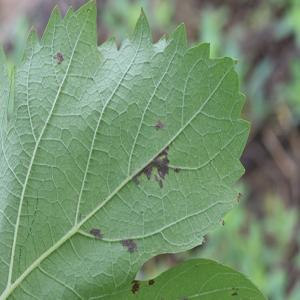Folha: (0, 0, 251, 298)
Fungo: (132, 145, 180, 188), (142, 148, 169, 180), (153, 154, 169, 179), (121, 238, 138, 252), (142, 163, 153, 180), (53, 50, 64, 65), (89, 228, 103, 238), (130, 280, 140, 294), (154, 174, 163, 189), (154, 118, 165, 130), (132, 174, 140, 185), (162, 154, 170, 164), (233, 58, 239, 68), (237, 192, 242, 202), (158, 178, 163, 188), (148, 278, 154, 285), (154, 123, 160, 130), (174, 166, 180, 172), (160, 121, 165, 128), (202, 238, 206, 244), (231, 291, 237, 295), (165, 145, 169, 151), (86, 8, 90, 13), (218, 260, 222, 265), (222, 220, 225, 226)
